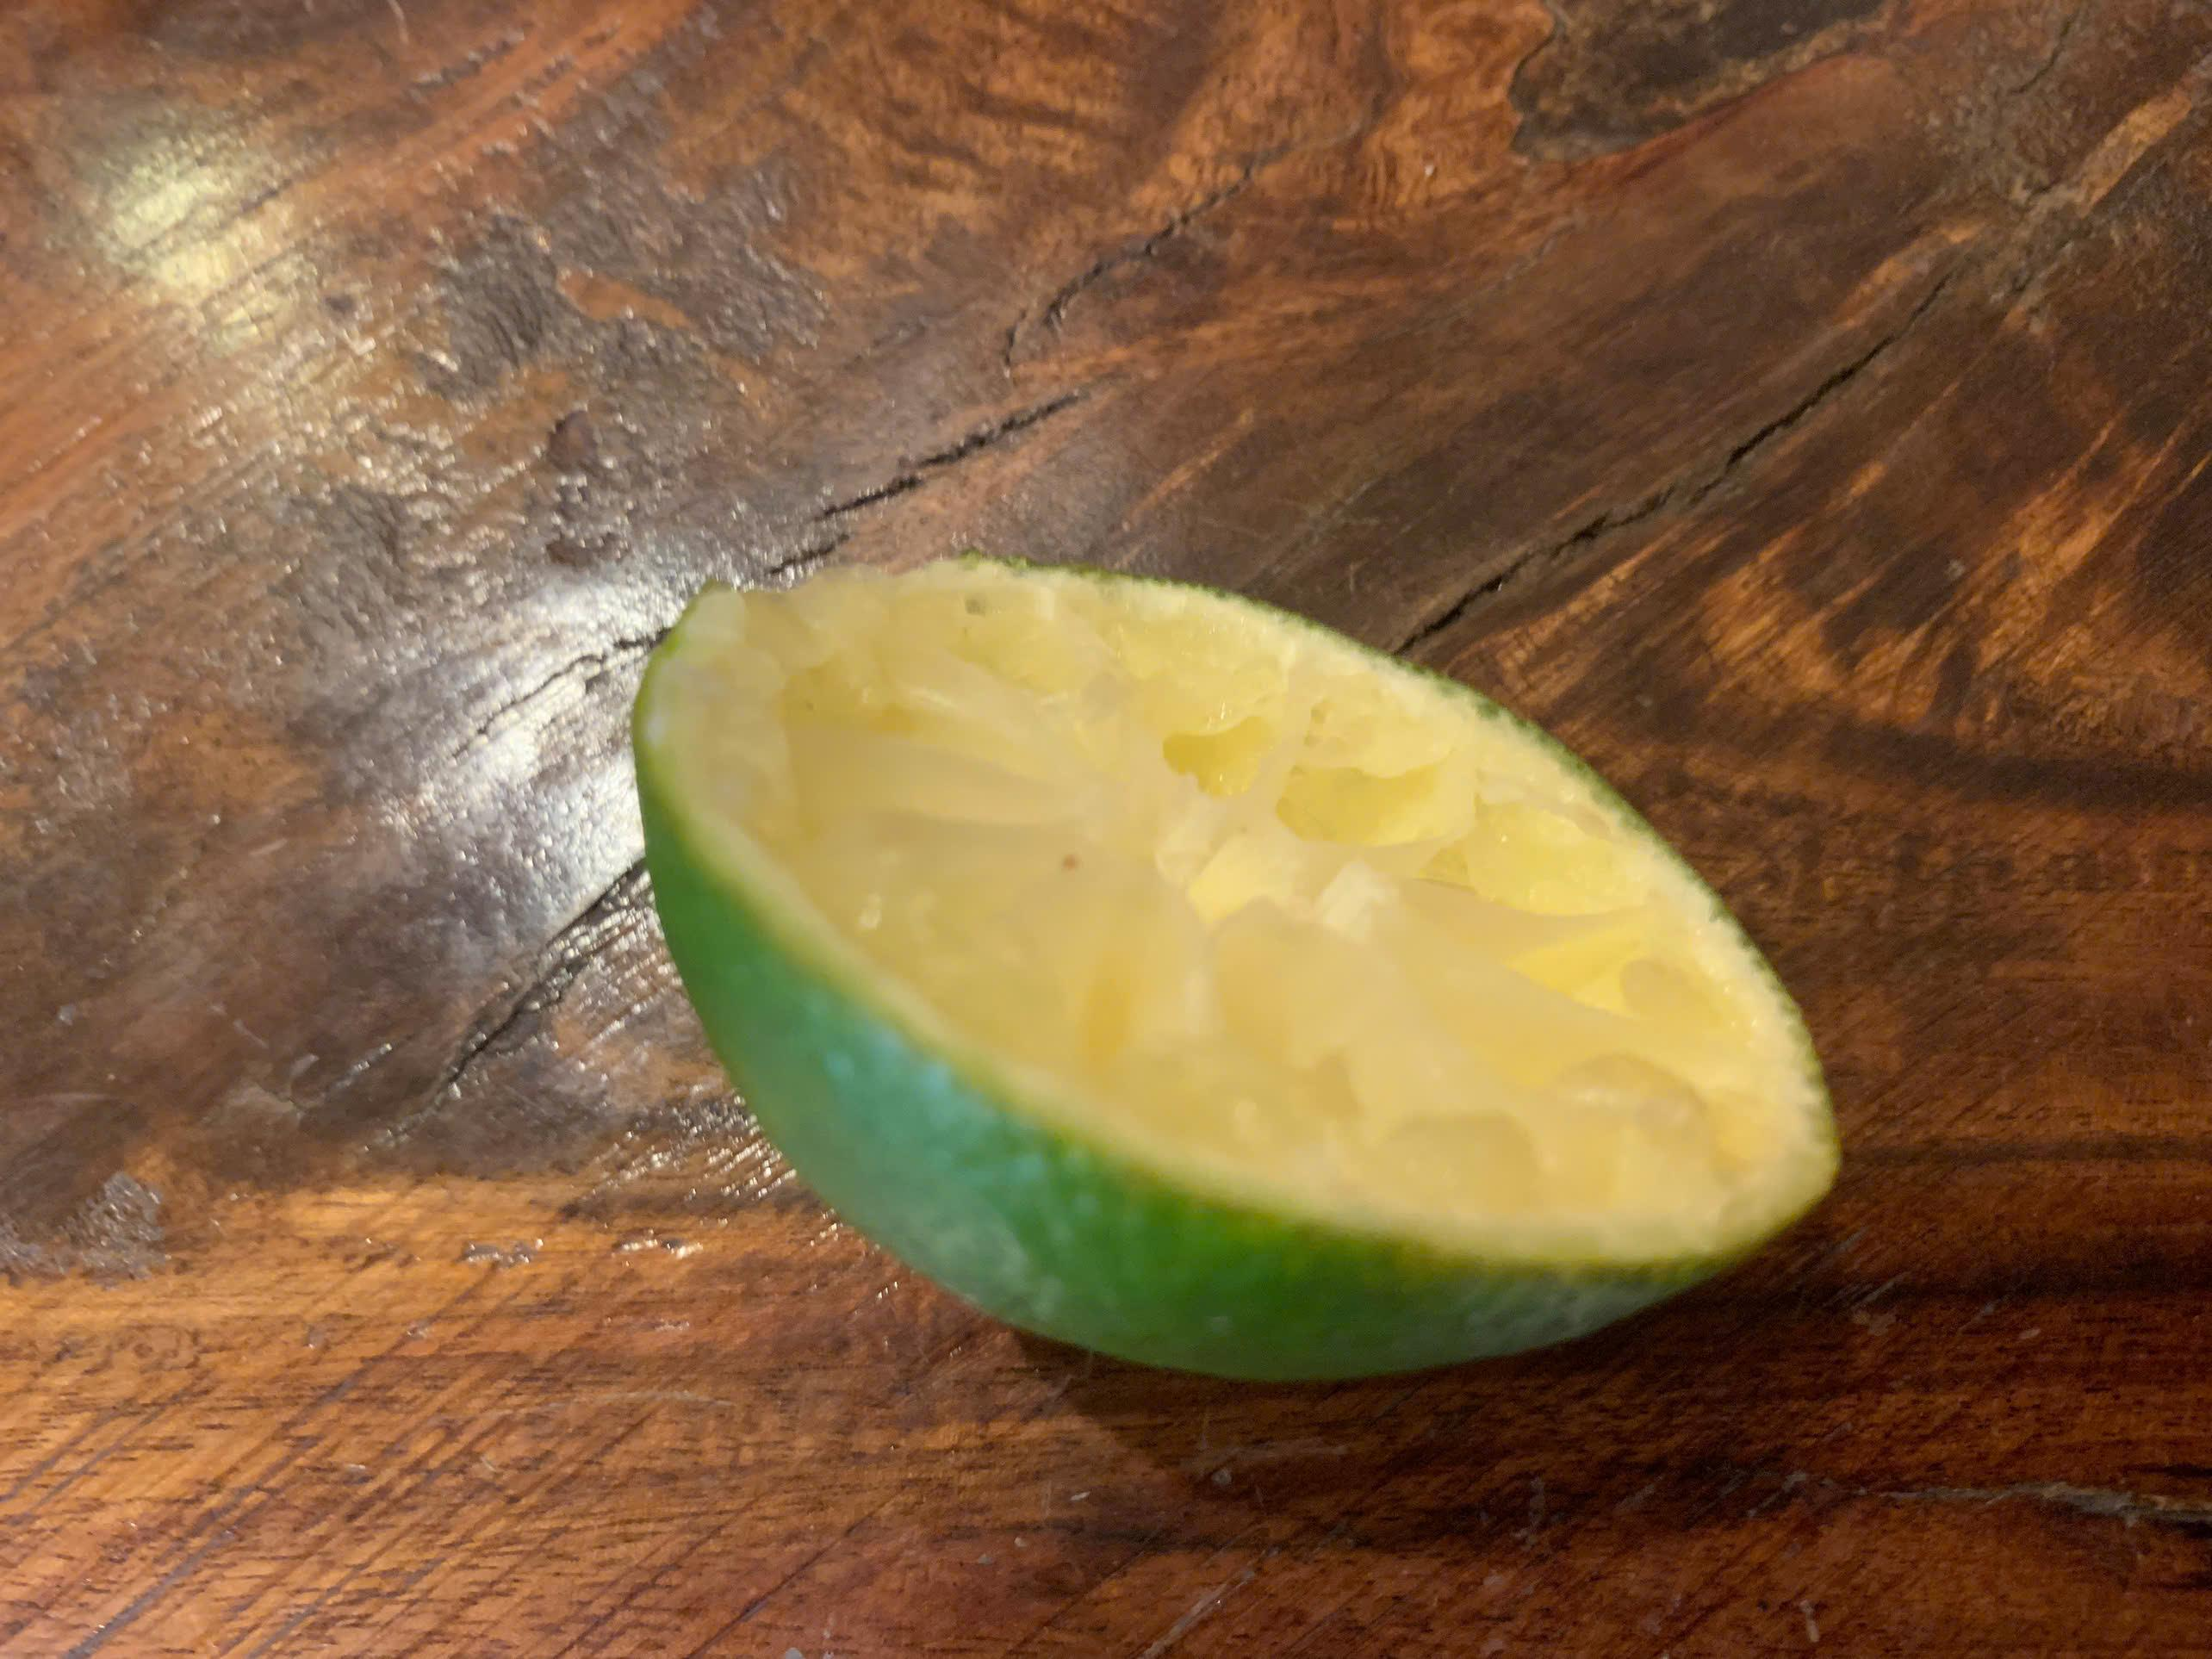Huu co: (632, 554, 1843, 1370)
